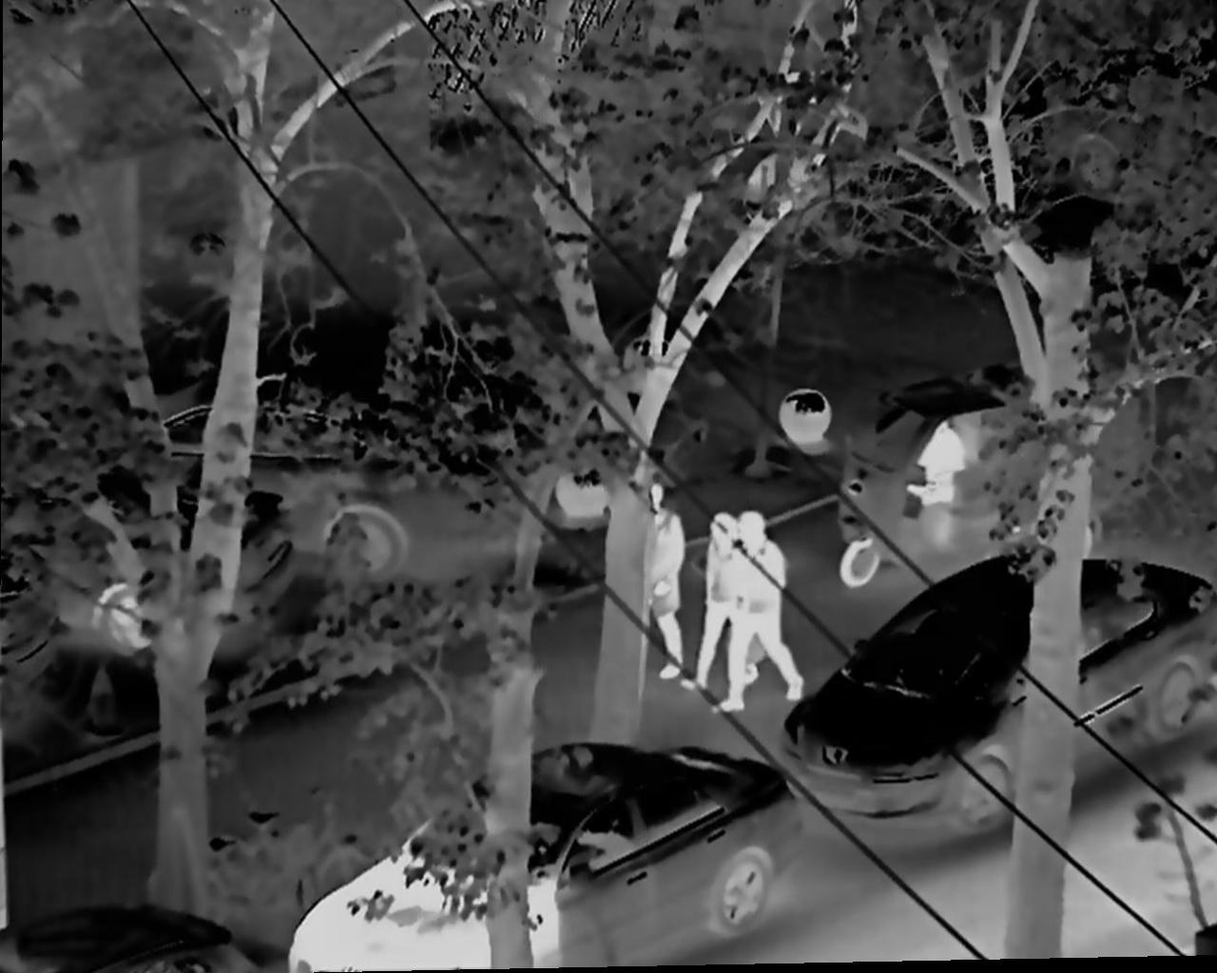person: (722, 501, 809, 724), (629, 483, 683, 687), (692, 518, 739, 694)
